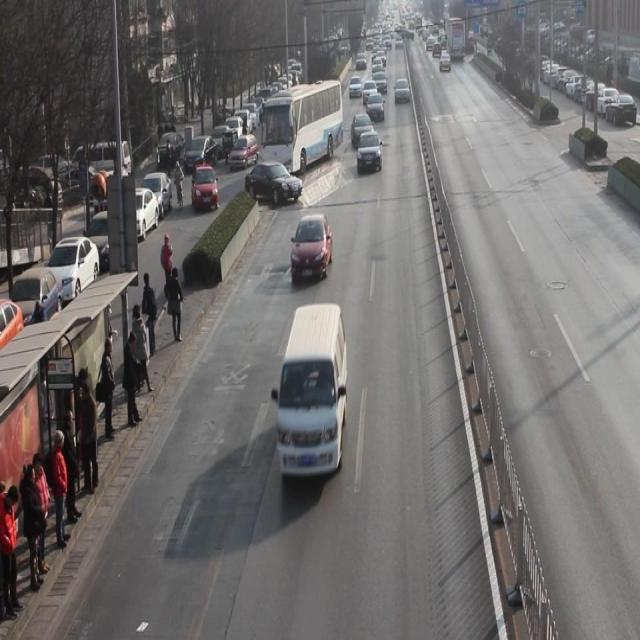car: (292, 213, 334, 282), (244, 160, 303, 207), (357, 130, 382, 174), (350, 114, 375, 149), (367, 93, 385, 123)
truck: (278, 304, 347, 477)
van: (260, 82, 341, 174)
